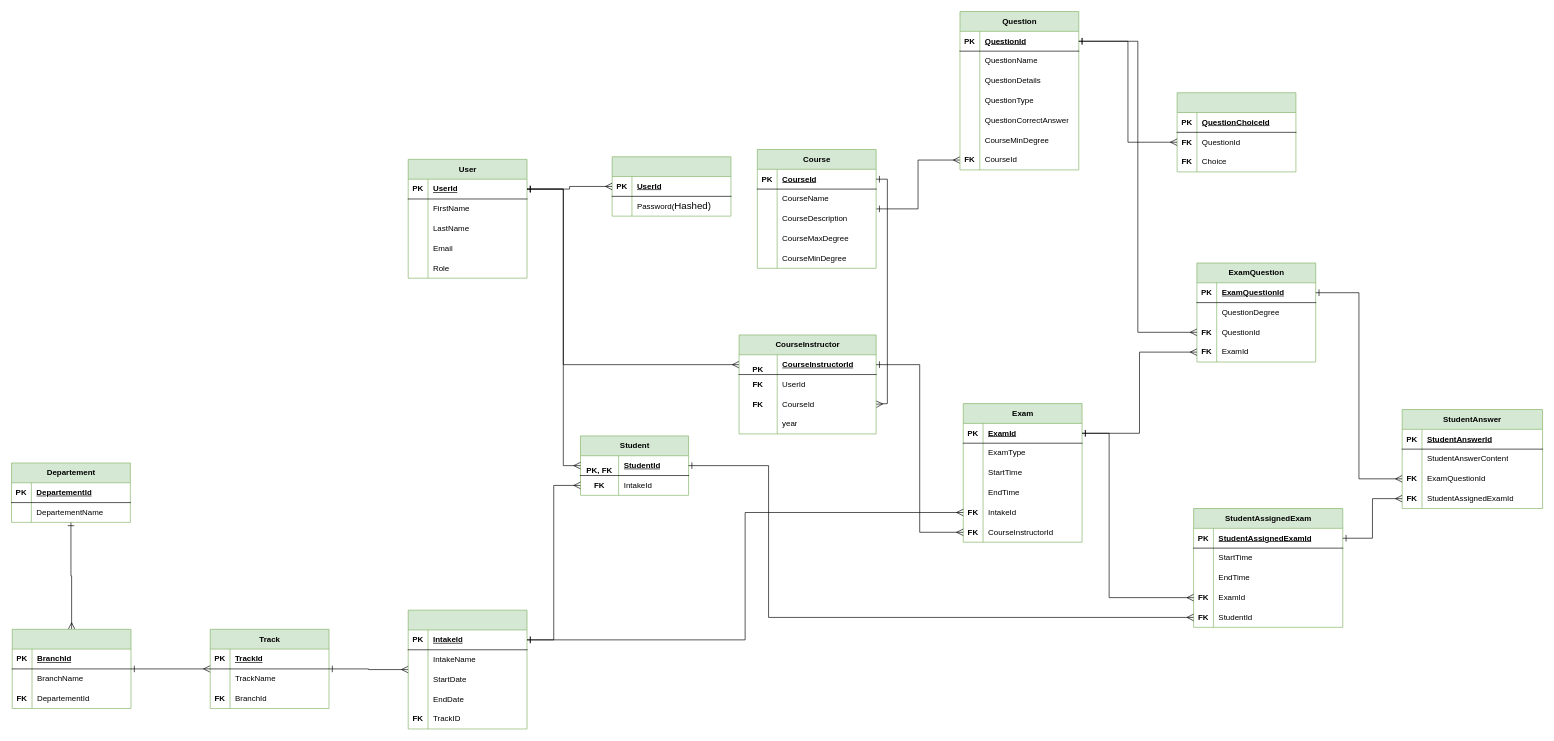
Some shapes in this 1554 by 741 pixel diagram are drawn without their labels. Here are the shapes that lost their labels. From the top down, the box of each, then its label:
(1176, 92, 1296, 172): QuestionChoices
(611, 156, 731, 216): UserAuth
(12, 629, 131, 709): Bracnh
(408, 610, 527, 729): IntackeId
